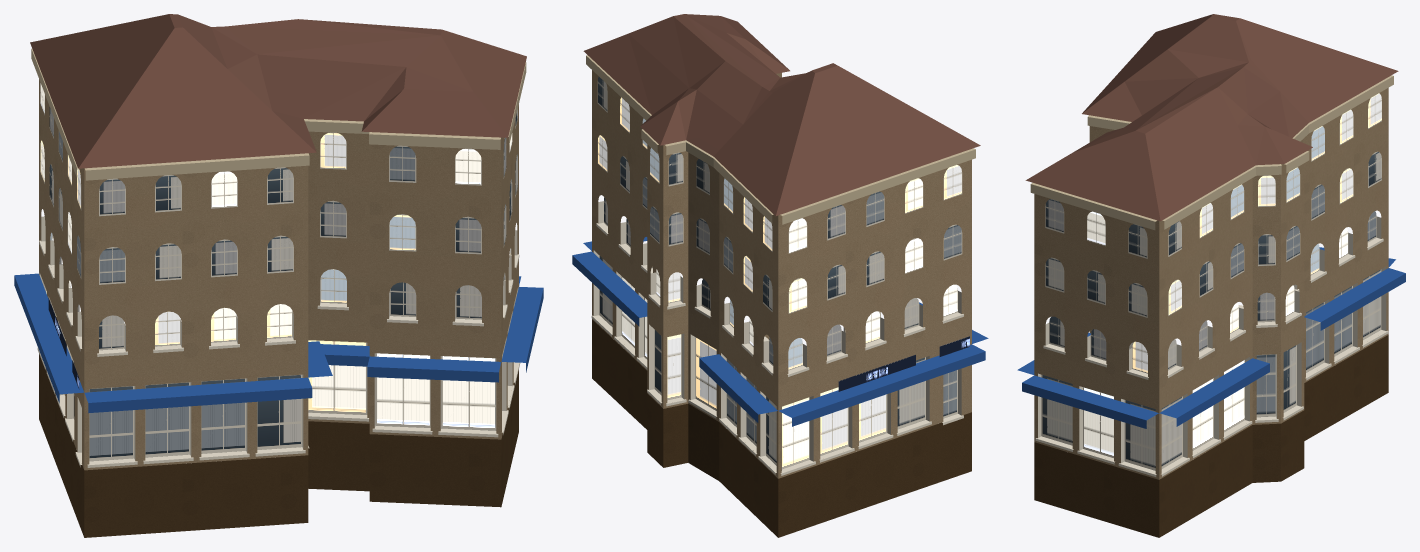
The model's file is langC_longstreet.glb.
3 views of the same model, side by side, from view 1: azimuth 30°, elevation 25°; view 2: azimuth 150°, elevation 25°; view 3: azimuth 270°, elevation 25° (orthographic). The views are drawn at different scales.
Parts seen in each view (by area): view 1: langC_longstreet; view 2: langC_longstreet; view 3: langC_longstreet.
Boxes of the visible parts, x1=… form: langC_longstreet: x1=14, y1=14, x2=543, y2=537; langC_longstreet: x1=572, y1=14, x2=988, y2=537; langC_longstreet: x1=1017, y1=14, x2=1405, y2=537.
Bounding box in the file's own units: 21.93 × 20.3 × 18.21.
Materials: 3 (3 with a texture image).
